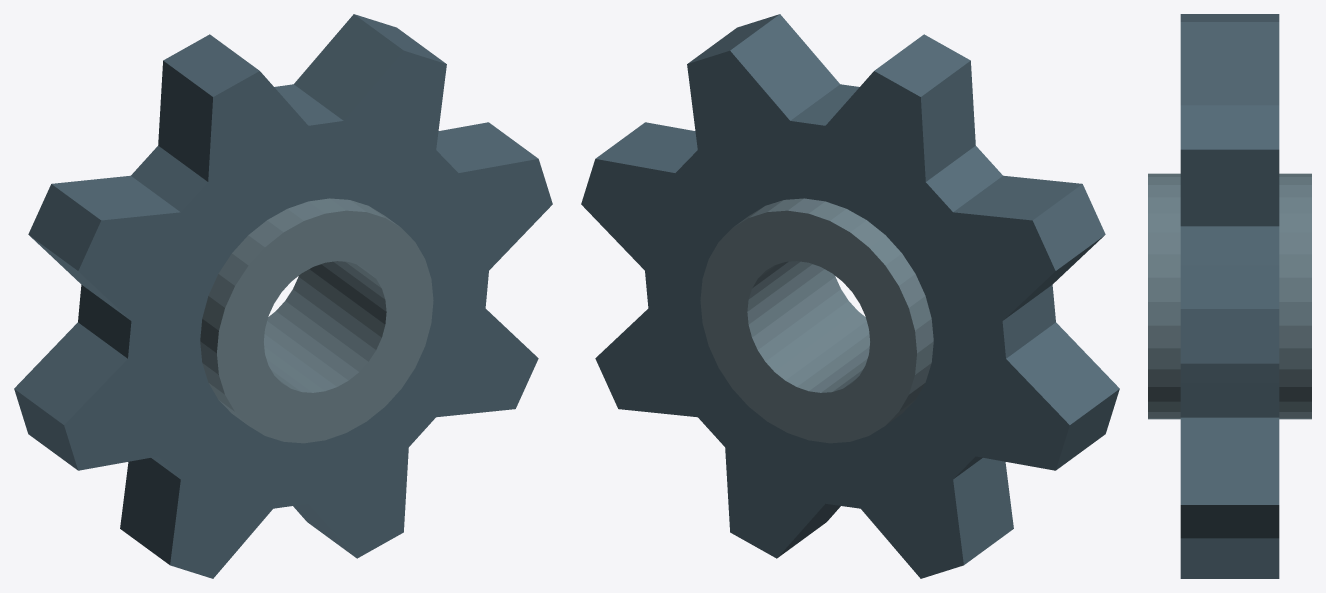
The model's file is 09_Gear_08T.obj.
The picture shows the model from 3 angles, left to right: view 1: azimuth 30°, elevation 25°; view 2: azimuth 150°, elevation 25°; view 3: azimuth 270°, elevation 25°; orthographic projection.
Bounding box in the file's own units: 0.6767 × 0.6767 × 0.2.
